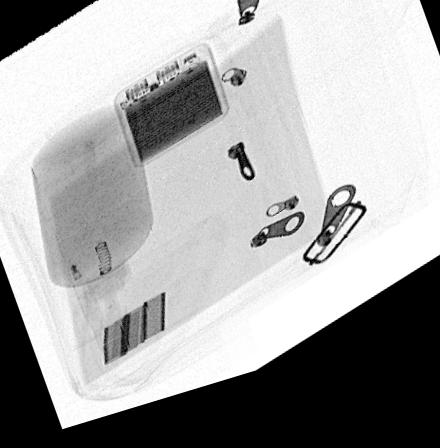Powerbank: (109, 53, 230, 179)
